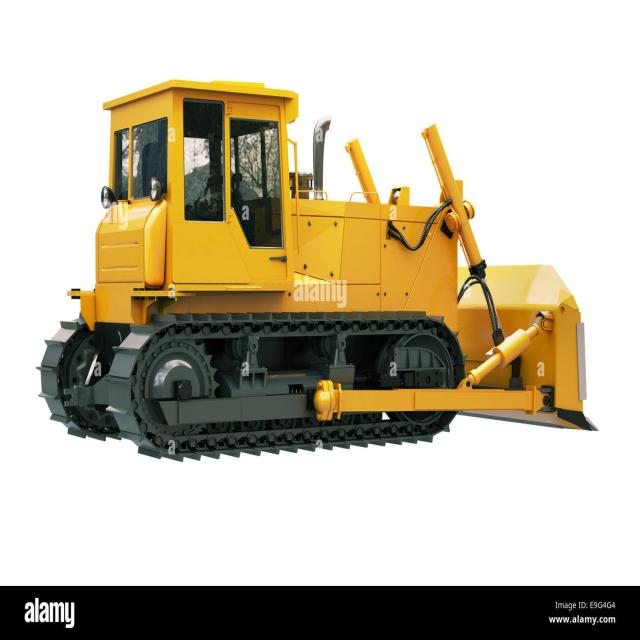buldozerpayloadergrader: (37, 59, 594, 530)
